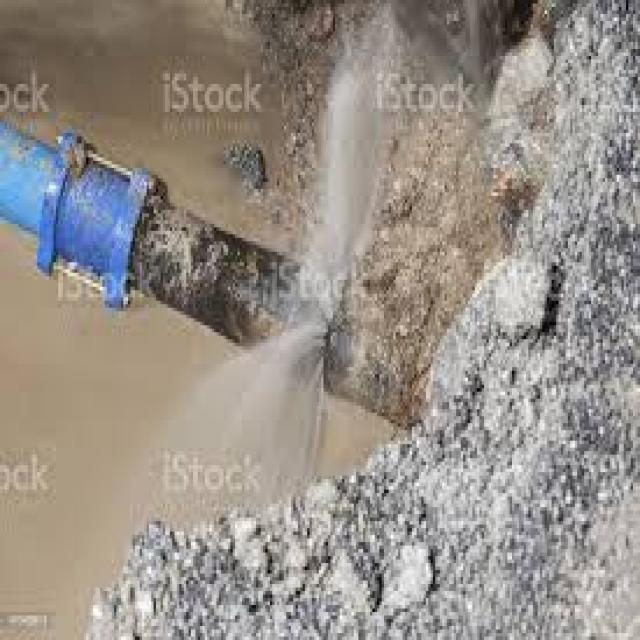corrosion: (220, 205, 393, 479)
